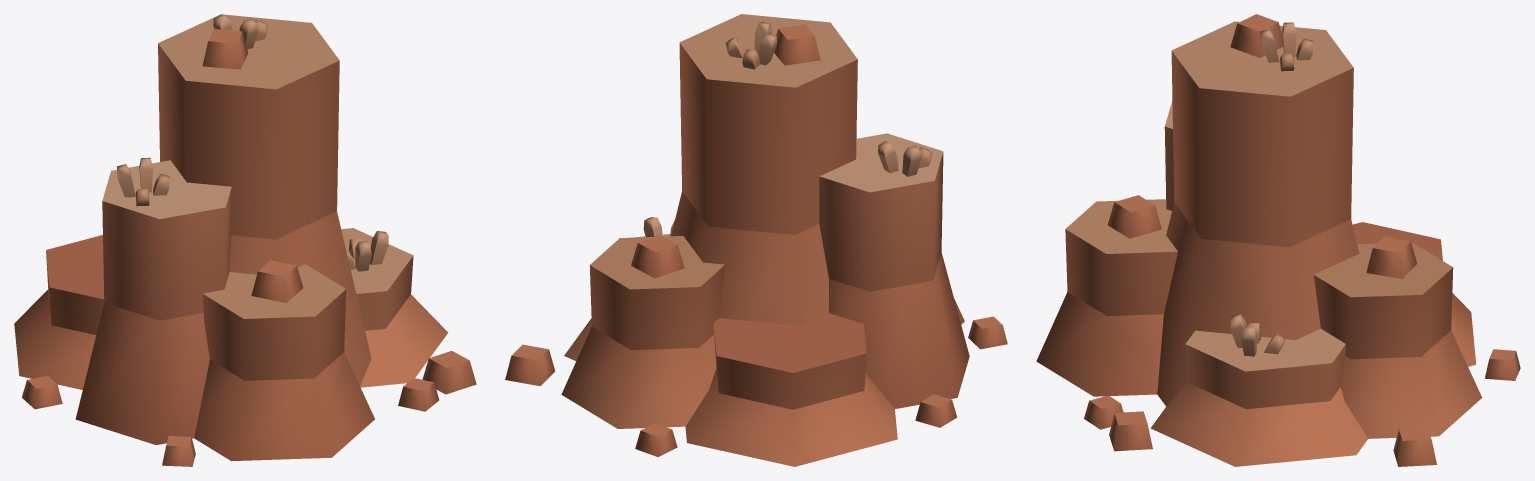
Rendered from rocks-sand-b.glb.
3 views of the same model, side by side, from view 1: azimuth 30°, elevation 25°; view 2: azimuth 150°, elevation 25°; view 3: azimuth 270°, elevation 25° (orthographic). The views are drawn at different scales.
Visible parts, largest first — view 1: rocks-sand-b; view 2: rocks-sand-b; view 3: rocks-sand-b.
Part boxes in pixels (x1,y1,x2,y2): rocks-sand-b: (14,14,476,466); rocks-sand-b: (505,14,1007,466); rocks-sand-b: (1036,14,1520,466).
Size of the model in its own units: 4.38 by 3.71 by 4.71.
